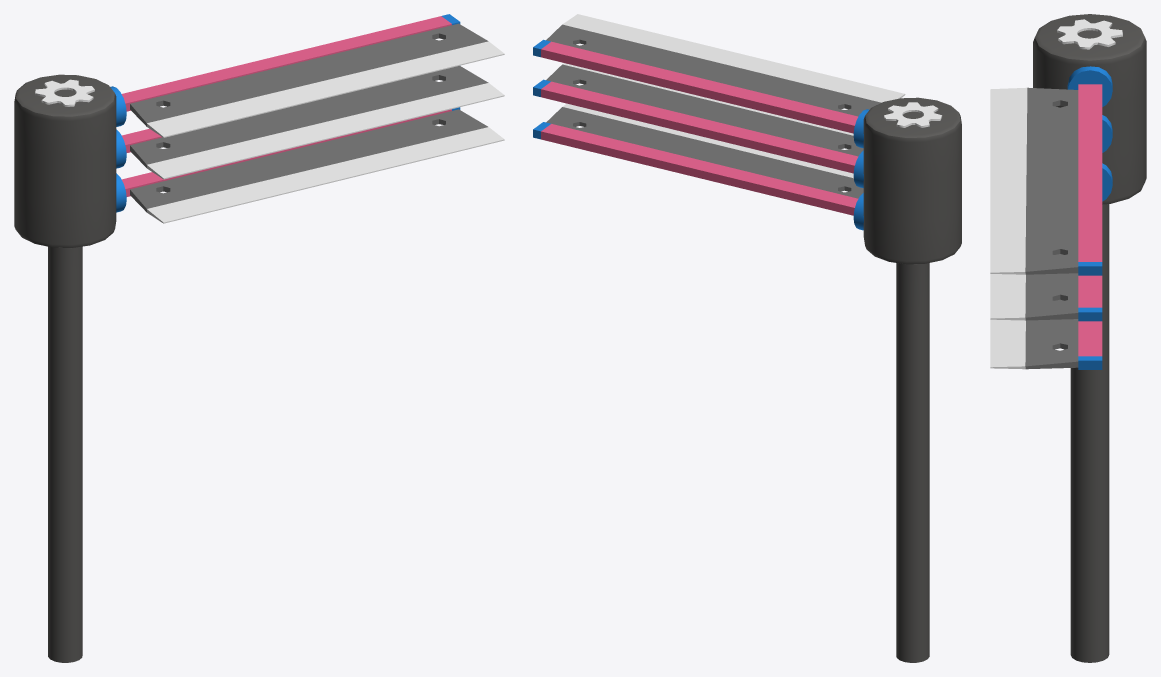
The model's file is trap_01.fbx.
3 renders of one model, left to right at view 1: azimuth 30°, elevation 25°; view 2: azimuth 150°, elevation 25°; view 3: azimuth 270°, elevation 25°, orthographic. The views are drawn at different scales.
Parts seen in each view (by area): view 1: trap_01; view 2: trap_01; view 3: trap_01.
Boxes of the visible parts, x1,y1,x2,y2 form: trap_01: (14, 14, 504, 662); trap_01: (533, 14, 961, 662); trap_01: (990, 14, 1146, 662).
Bounding box in the file's own units: 2091 × 2567 × 586.
